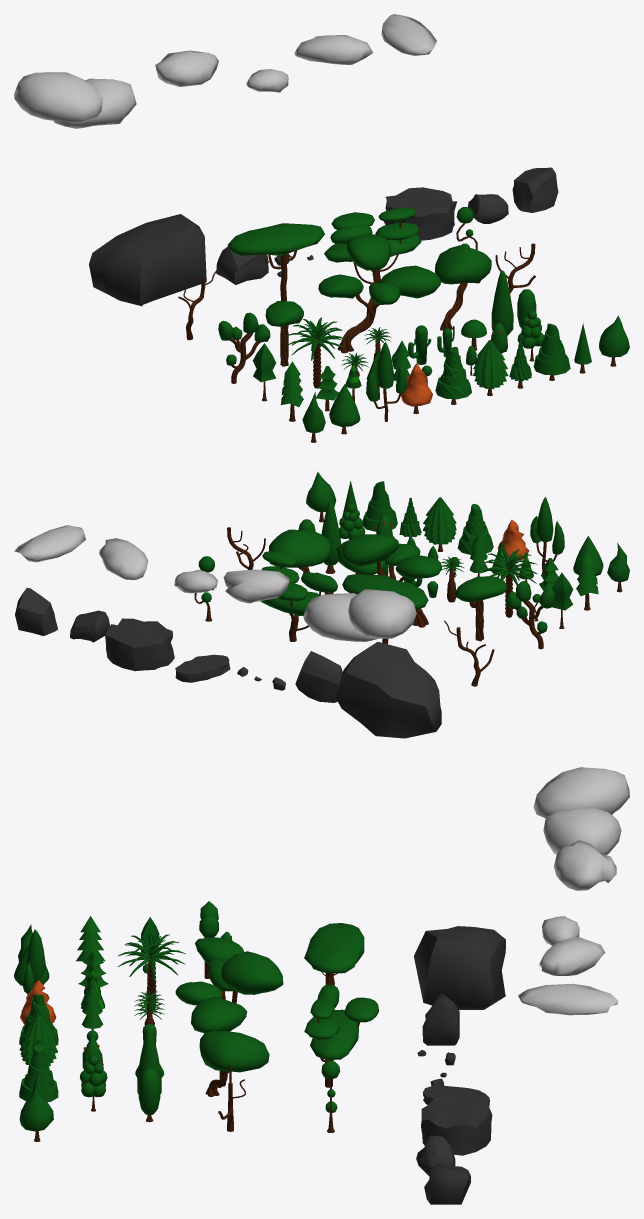
The picture shows the model from 3 angles, top to bottom: view 1: azimuth 30°, elevation 25°; view 2: azimuth 150°, elevation 25°; view 3: azimuth 270°, elevation 25°; orthographic projection. The views are drawn at different scales.
Visible parts, largest first — view 1: rock_1, cloud_1, rock_5, Box019, cloud_2, cloud_4, Box012, rock_2, cloud_5, rock_3, Box010, Box009 (+19 smaller); view 2: rock_1, cloud_1, rock_5, cloud_2, rock_3, Box012, cloud_5, cloud_4, rock_2, Box009, Box019, rock_6 (+27 smaller); view 3: rock_1, cloud_1, rock_5, Box019, cloud_5, Box012, cloud_2, Box009, cloud_4, rock_2, rock_3, Box010 (+17 smaller).
Part boxes in pixels (left/top/right/bottom): rock_1: left=89, top=214, right=206, bottom=306; cloud_1: left=14, top=72, right=136, bottom=128; rock_5: left=384, top=187, right=456, bottom=240; Box019: left=227, top=223, right=324, bottom=255; cloud_2: left=155, top=50, right=218, bottom=86; cloud_4: left=294, top=35, right=373, bottom=64; Box012: left=435, top=245, right=491, bottom=284; rock_2: left=512, top=167, right=558, bottom=212; cloud_5: left=381, top=14, right=436, bottom=55; rock_3: left=216, top=246, right=268, bottom=284; Box010: left=379, top=265, right=440, bottom=298; Box009: left=346, top=234, right=391, bottom=270; rock_1: left=335, top=642, right=441, bottom=738; cloud_1: left=303, top=589, right=416, bottom=641; rock_5: left=105, top=618, right=174, bottom=671; cloud_2: left=223, top=569, right=289, bottom=603; rock_3: left=295, top=651, right=342, bottom=702; Box012: left=269, top=529, right=331, bottom=567; cloud_5: left=14, top=525, right=85, bottom=562; cloud_4: left=99, top=538, right=148, bottom=579; rock_2: left=15, top=588, right=57, bottom=635; Box009: left=342, top=534, right=398, bottom=566; Box019: left=342, top=574, right=428, bottom=609; rock_6: left=175, top=654, right=230, bottom=682; rock_1: left=414, top=926, right=505, bottom=1009; cloud_1: left=533, top=767, right=629, bottom=854; rock_5: left=421, top=1093, right=492, bottom=1155; Box019: left=304, top=923, right=364, bottom=973; cloud_5: left=518, top=983, right=618, bottom=1015; Box012: left=199, top=1031, right=269, bottom=1072; cloud_2: left=553, top=840, right=616, bottom=890; Box009: left=221, top=951, right=283, bottom=994; cloud_4: left=539, top=937, right=605, bottom=975; rock_2: left=424, top=1164, right=470, bottom=1204; rock_3: left=422, top=993, right=459, bottom=1045; Box010: left=191, top=997, right=247, bottom=1033.
Bounding box in the file's own units: 21561 × 22292 × 8102.
